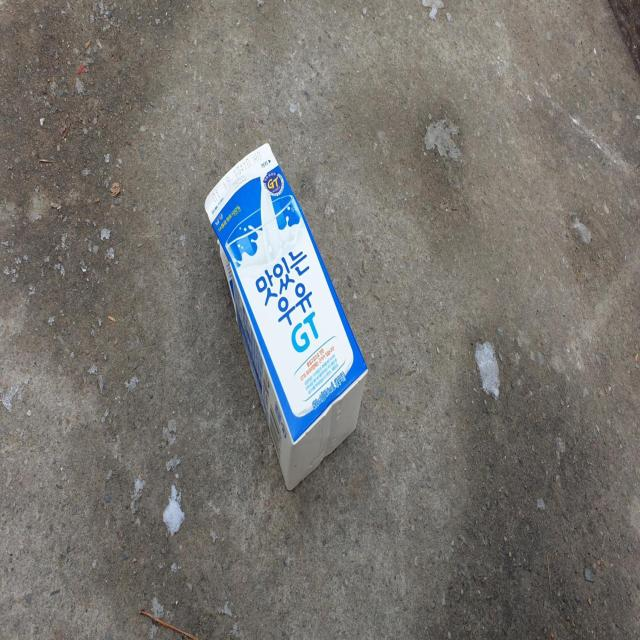paperpack: (205, 143, 367, 490)
